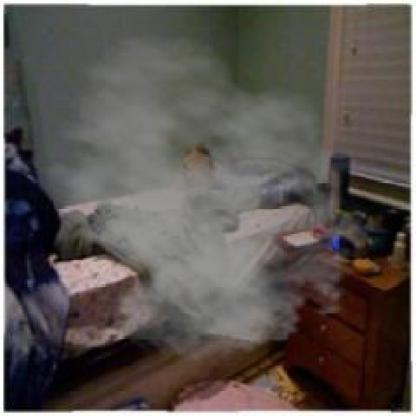Smoke: (30, 31, 383, 368)
